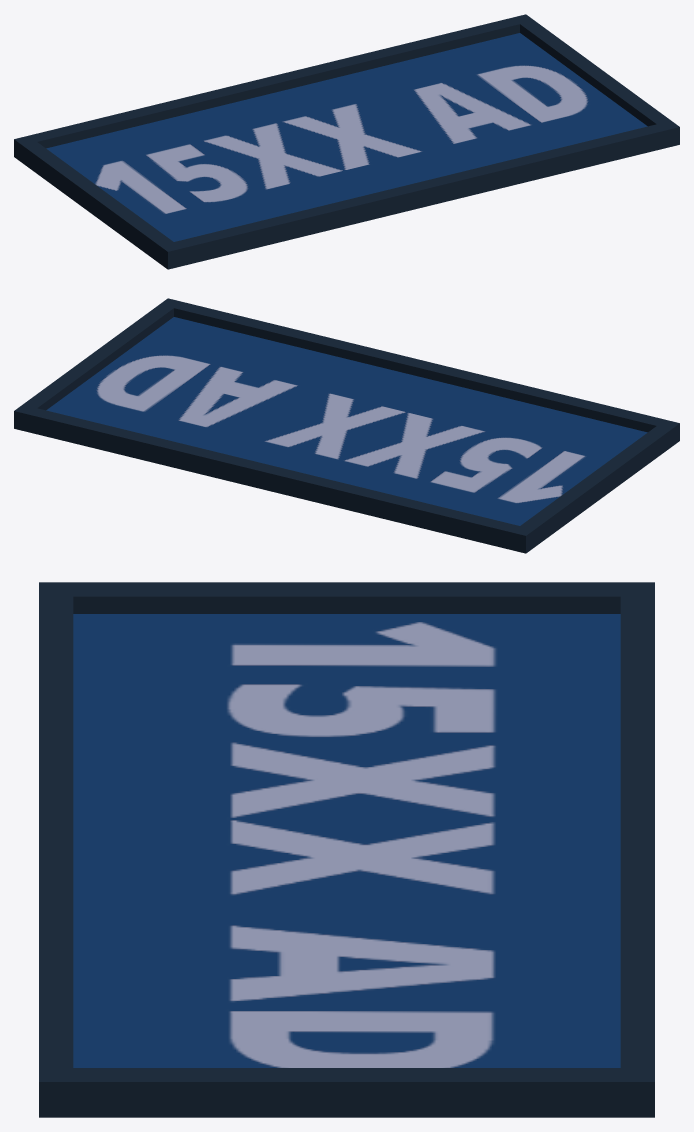
The model's file is Sign_15XXAD.glb.
3 views of the same model, one above another, from view 1: azimuth 30°, elevation 25°; view 2: azimuth 150°, elevation 25°; view 3: azimuth 270°, elevation 25° (orthographic). The views are drawn at different scales.
Visible parts, largest first — view 1: 15XXAD; view 2: 15XXAD; view 3: 15XXAD.
Boxes of the visible parts, bbox=[...] form: 15XXAD: bbox=[14, 14, 679, 269]; 15XXAD: bbox=[14, 298, 679, 553]; 15XXAD: bbox=[39, 582, 654, 1117].
Bounding box in the file's own units: 3.84 × 0.1273 × 2.
1 material, 1 textured.
